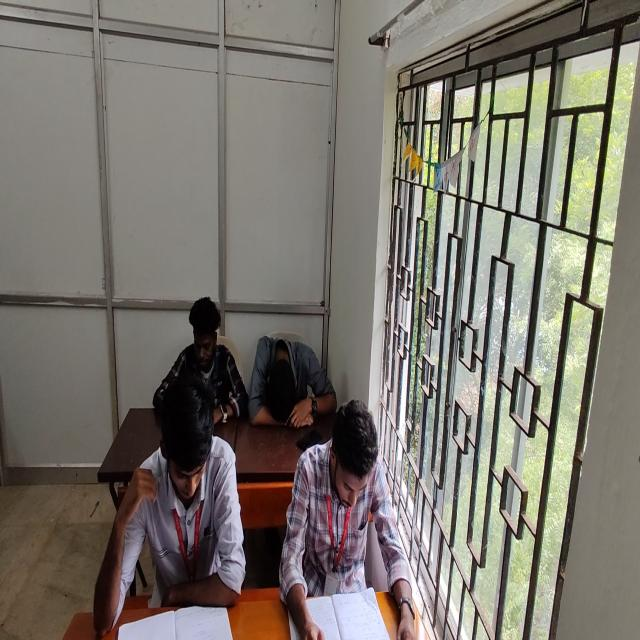reading: (95, 374, 246, 636), (276, 398, 398, 640)
sleeping: (249, 334, 336, 428)
using_mobile: (153, 295, 250, 427)
